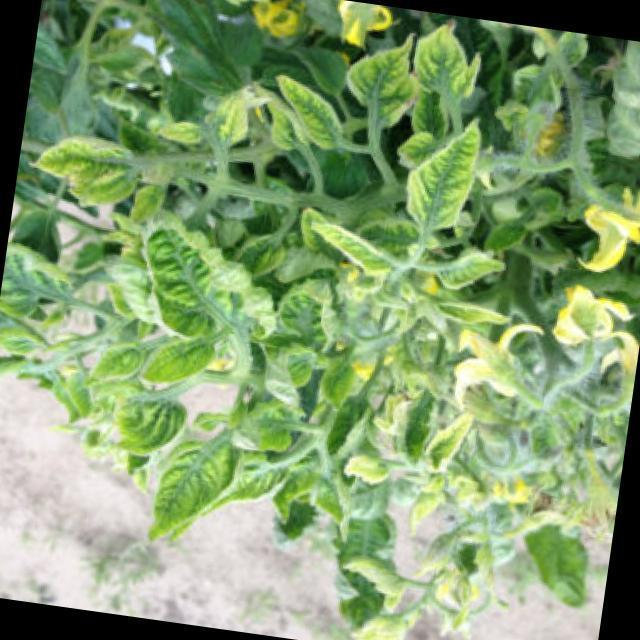Yellow Curl Virus: (129, 214, 284, 350), (20, 126, 154, 217), (143, 435, 238, 551), (285, 201, 403, 289), (402, 119, 484, 236), (341, 23, 423, 132), (262, 76, 348, 152), (412, 19, 492, 100), (434, 238, 518, 302)
